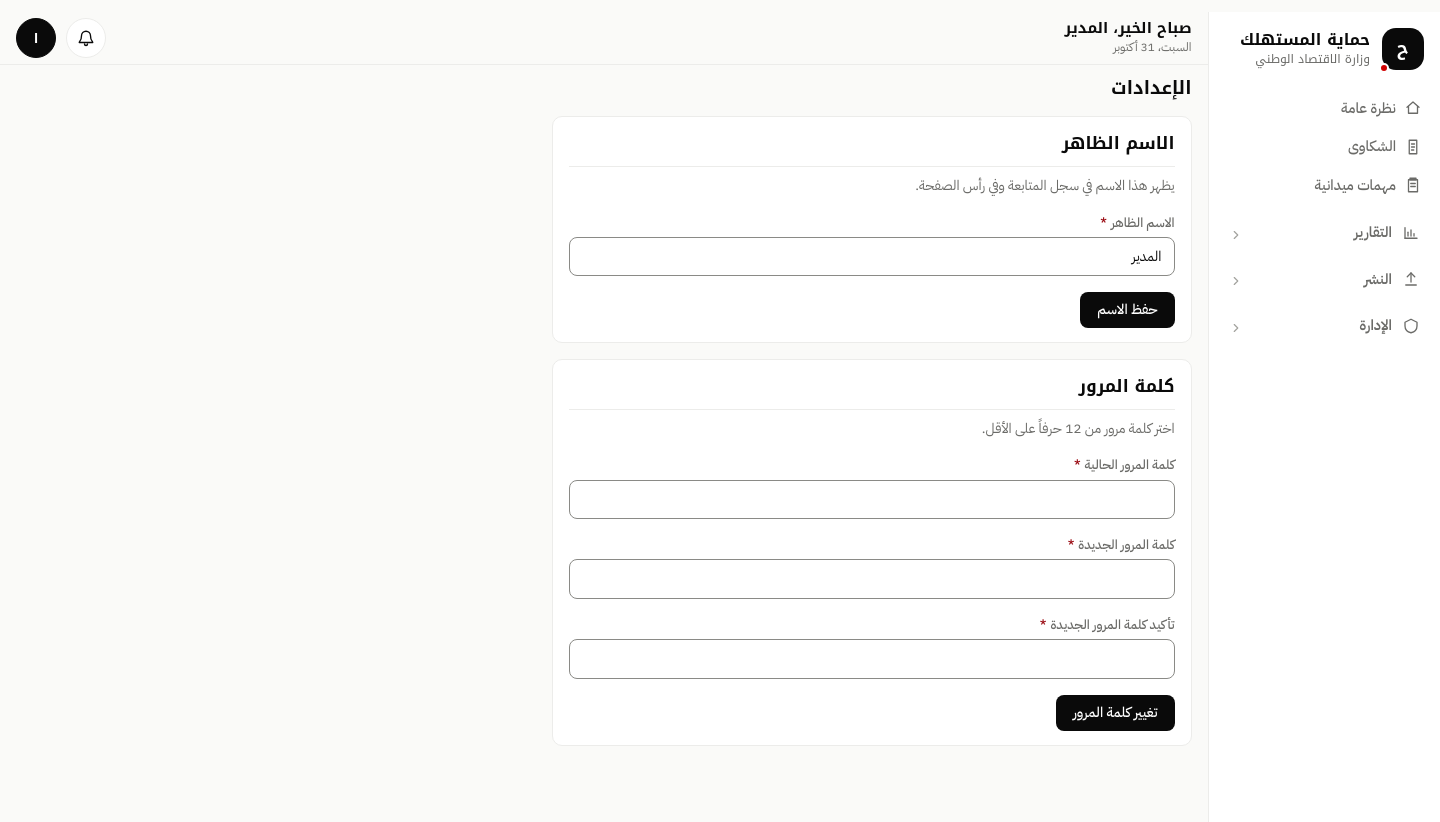
Scenario: saves the display name with PATCH and the CSRF header
Replace the text in the field labelled "الاسم الظاهر*" with "مدير جديد" at [872, 256], box [568, 237, 1174, 276]
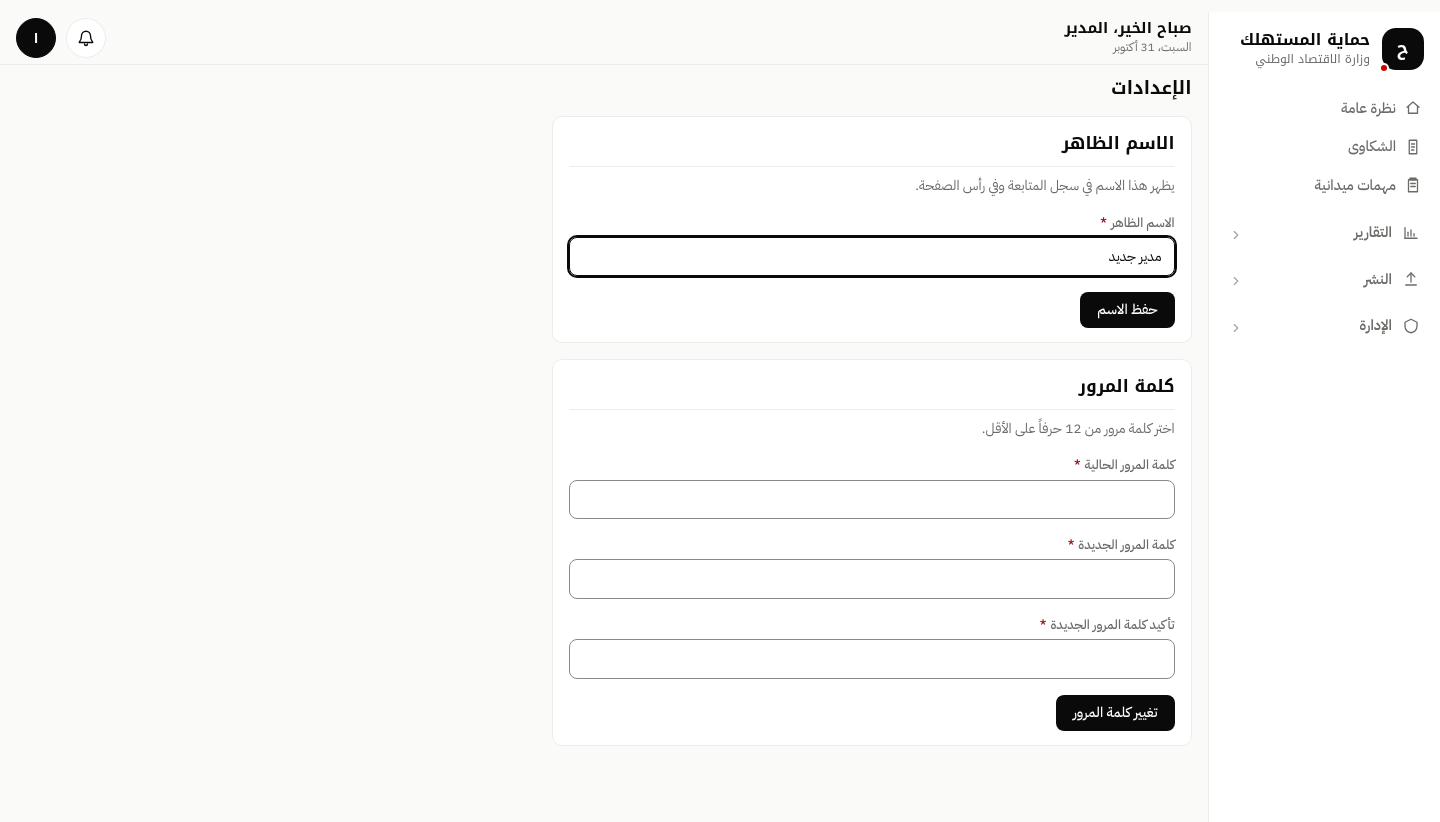
Click the button "حفظ الاسم" at [1127, 310], box [1080, 292, 1174, 328]
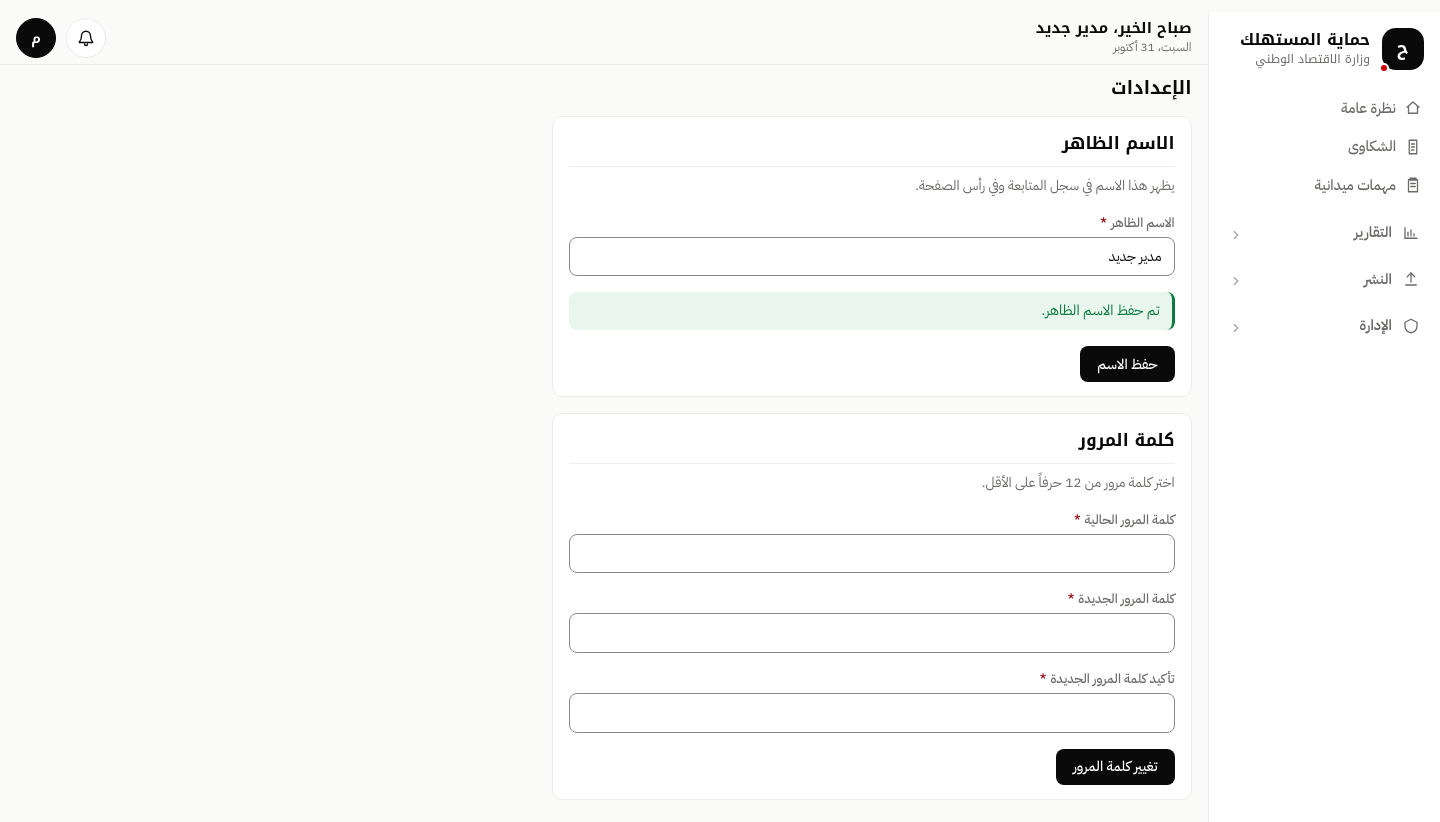
Now the text "تم حفظ الاسم الظاهر." is shown, box [568, 292, 1174, 330]
